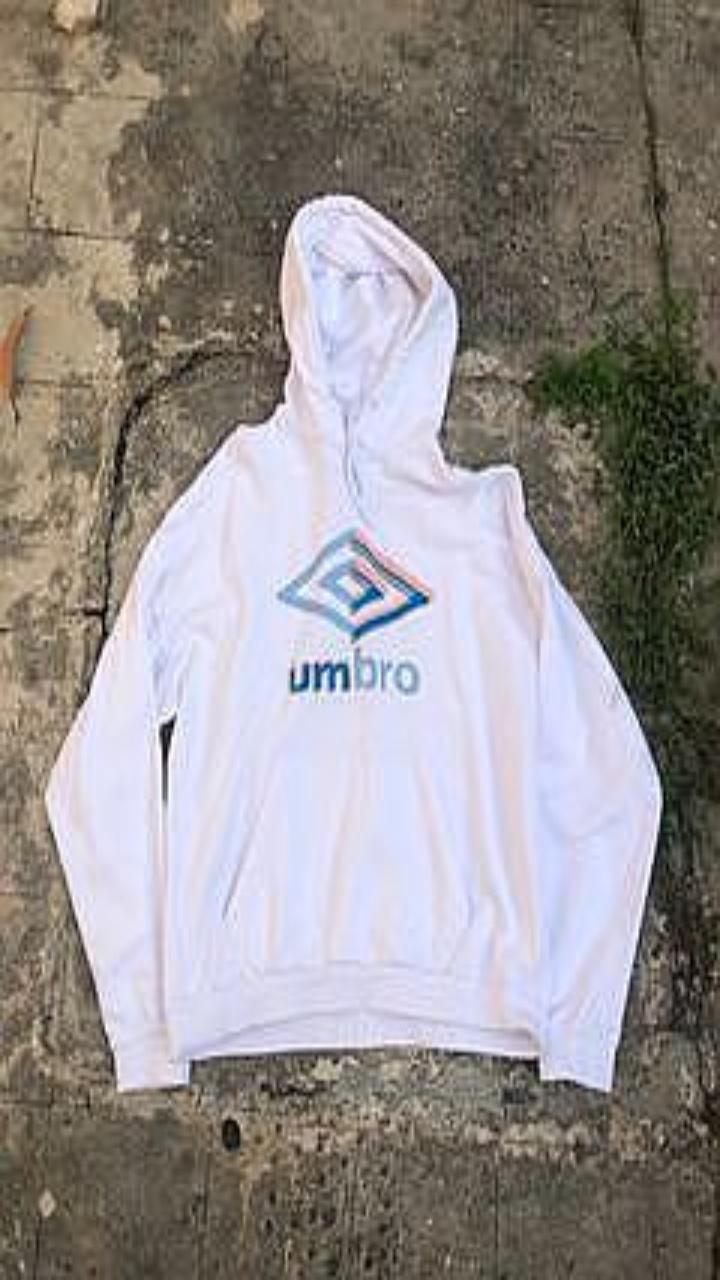Hoodie: (45, 194, 660, 1090)
